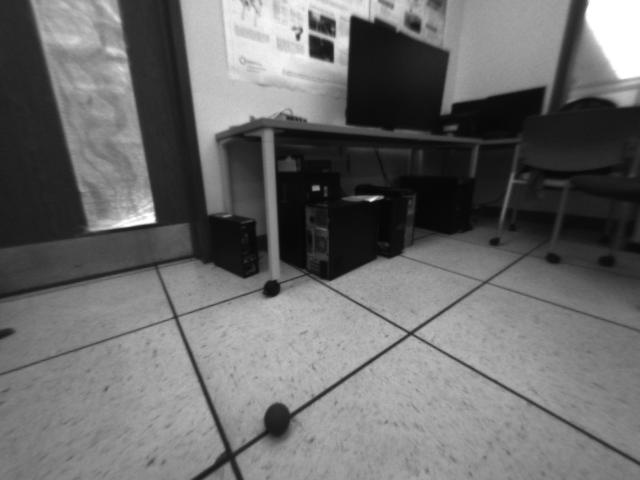dogtoy: (255, 393, 302, 444)
